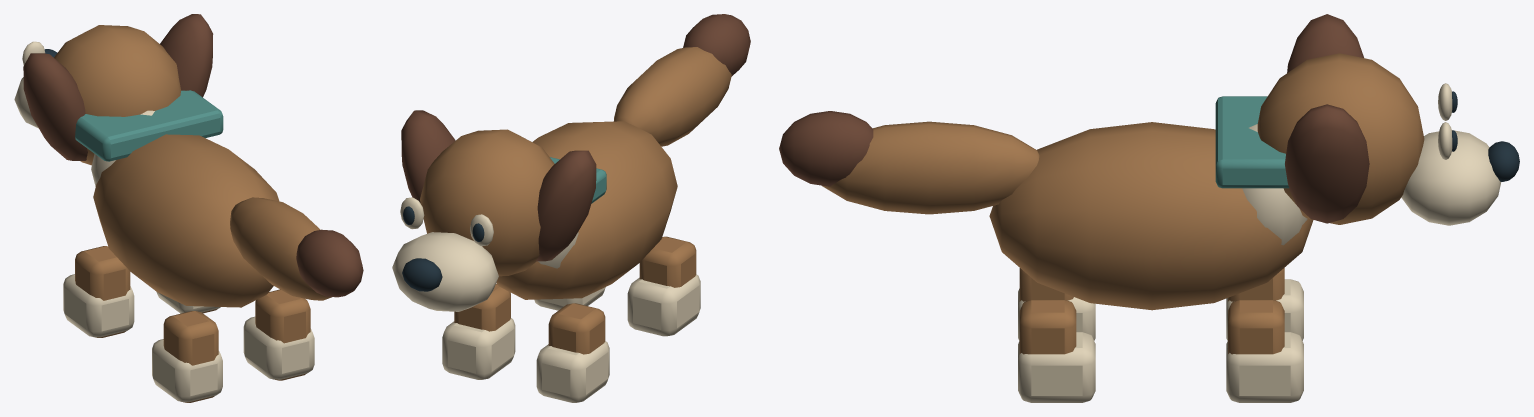
File: dog.glb
3 renders of one model, left to right at view 1: azimuth 30°, elevation 25°; view 2: azimuth 150°, elevation 25°; view 3: azimuth 270°, elevation 25°, orthographic. The views are drawn at different scales.
Visible parts, largest first — view 1: dog.001; view 2: dog.001; view 3: dog.001.
Boxes of the visible parts, x1=… form: dog.001: x1=14, y1=14, x2=363, y2=402; dog.001: x1=392, y1=14, x2=750, y2=402; dog.001: x1=779, y1=14, x2=1519, y2=402.
Size of the model in its own units: 0.6927 by 0.965 by 2.1.
